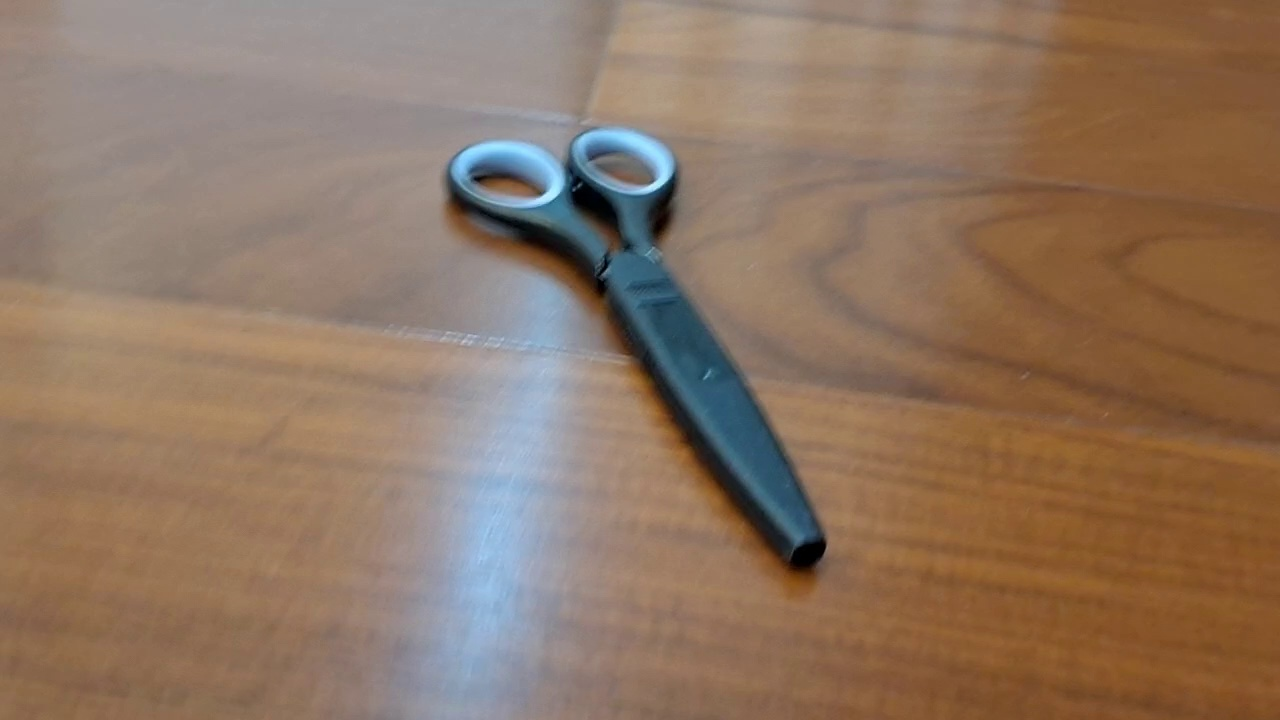scissors: (442, 122, 829, 574)
